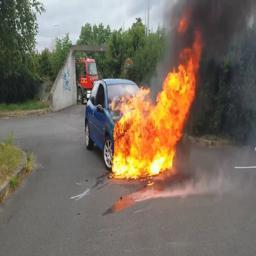fire: (112, 31, 202, 177)
